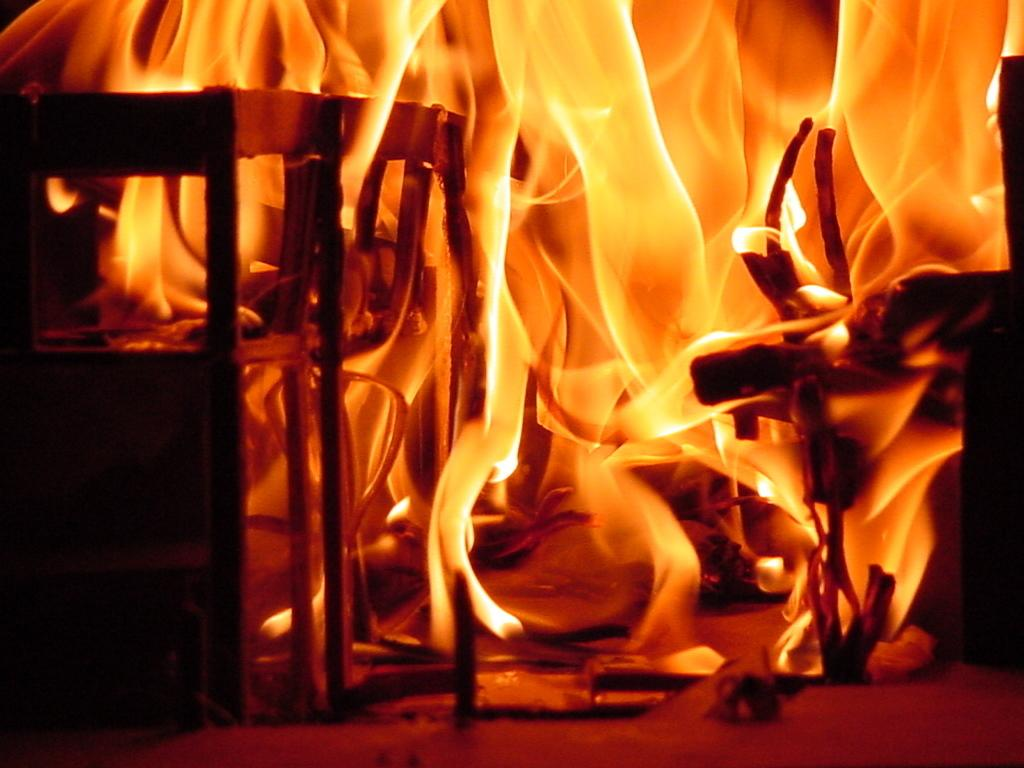Fire: (115, 2, 1023, 669)
